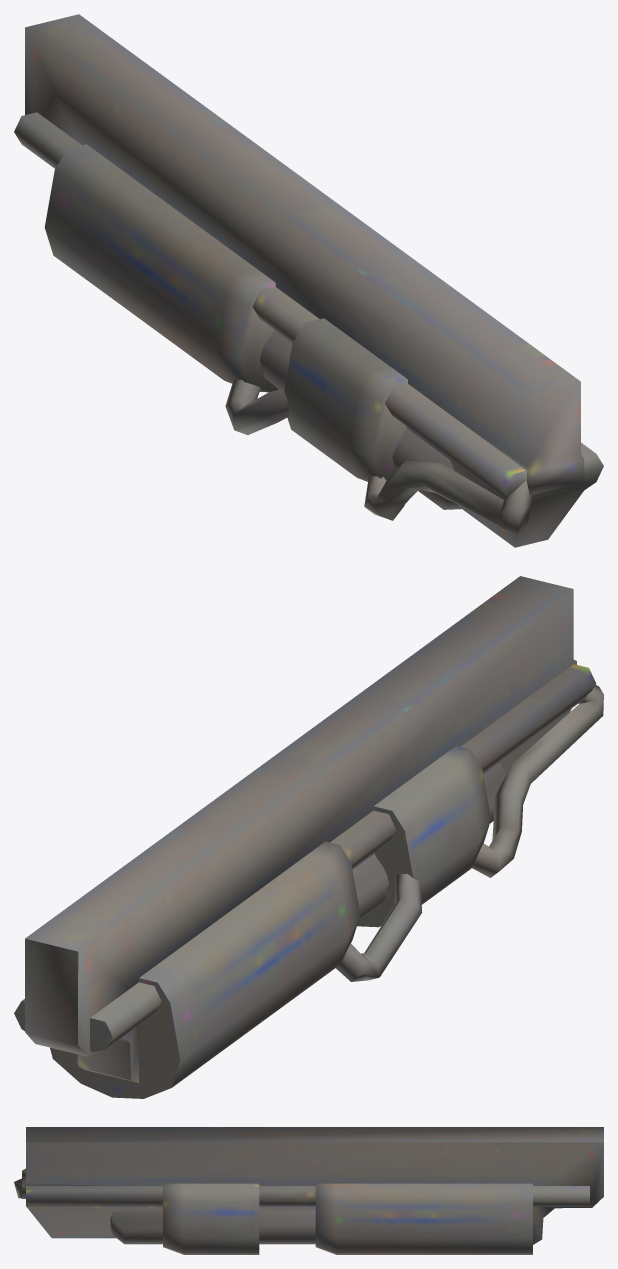
The model's file is acc3.obj.
3 views of the same model, one above another, from view 1: azimuth 30°, elevation 25°; view 2: azimuth 150°, elevation 25°; view 3: azimuth 270°, elevation 25° (orthographic). The views are drawn at different scales.
Visible parts, largest first — view 1: acc3; view 2: acc3; view 3: acc3.
Boxes of the visible parts, box(x1,y1,x2,y2) form: acc3: box(14, 14, 603, 547); acc3: box(14, 576, 603, 1098); acc3: box(14, 1127, 603, 1254).
Bounding box in the file's own units: 4.27 × 5.67 × 25.11.
